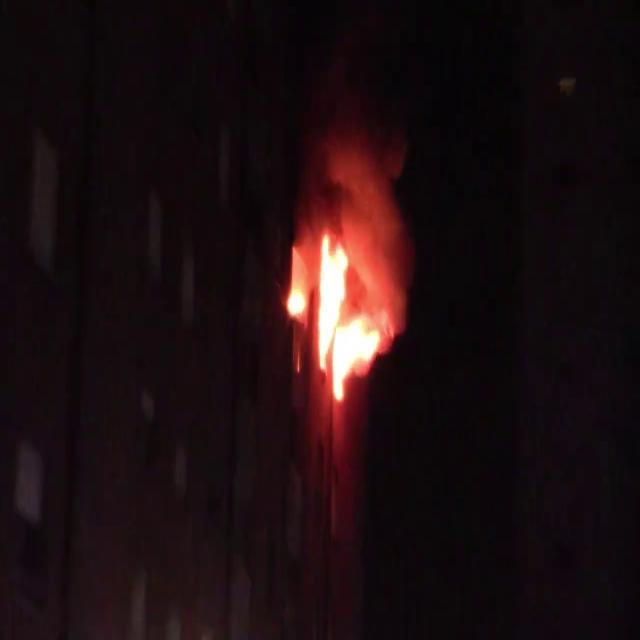Fire: (310, 214, 380, 413)
